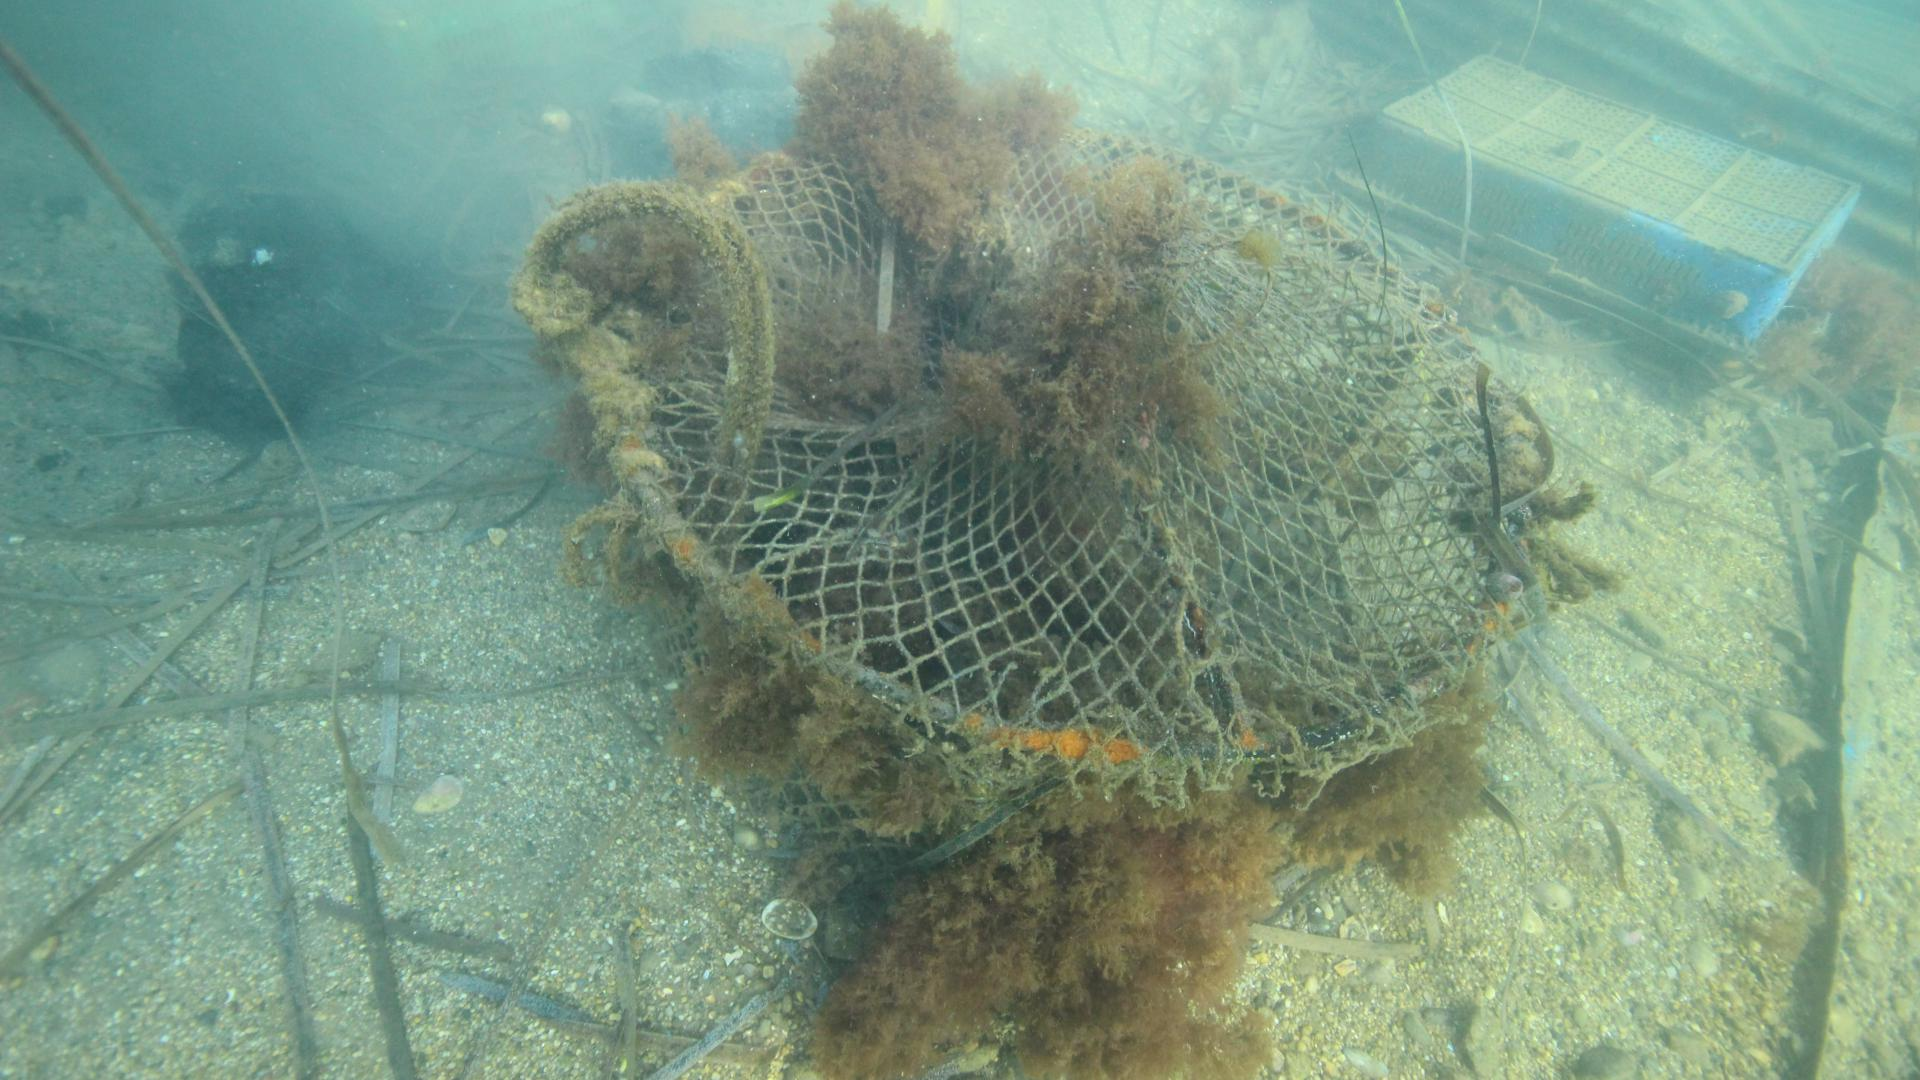bundle of ropes: (512, 175, 774, 472)
circular fish trap: (582, 123, 1534, 771)
